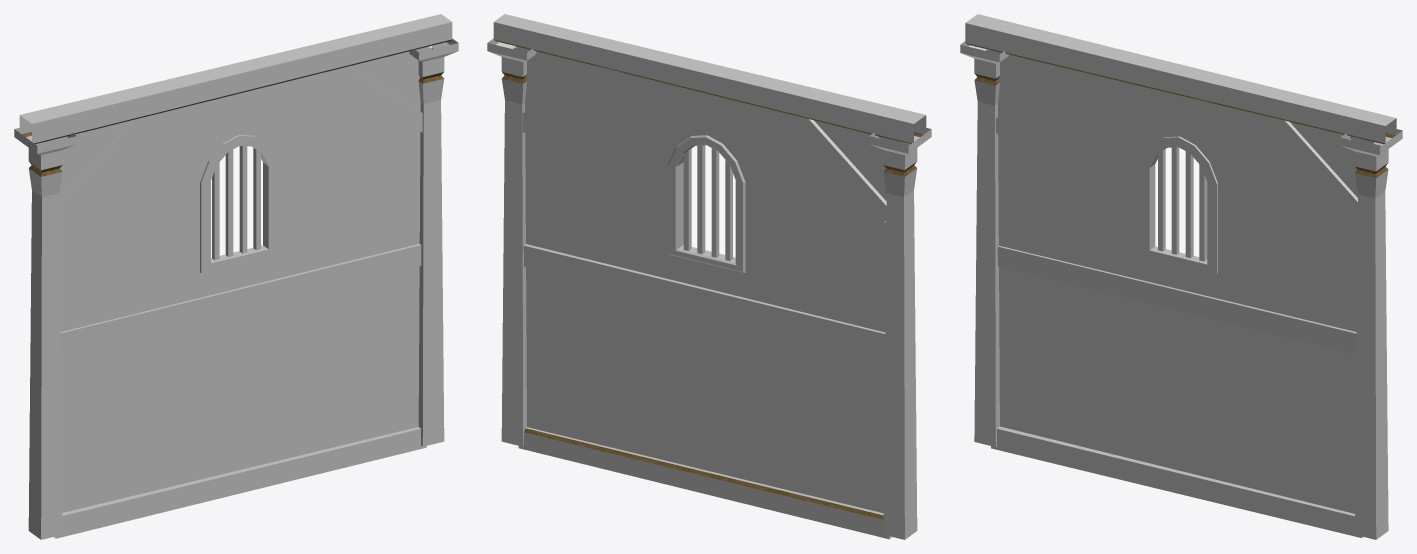
The model's file is WoodenWallWIthWindow.fbx.
3 views of the same model, side by side, from view 1: azimuth 30°, elevation 25°; view 2: azimuth 150°, elevation 25°; view 3: azimuth 330°, elevation 25° (orthographic).
Parts seen in each view (by area): view 1: Cube.015, Cube.014, Cube.013, Cube.012, Cube.016; view 2: Cube.015, Cube.014, Cube.013, Cube.012, Cube.016; view 3: Cube.015, Cube.014, Cube.012, Cube.013, Cube.016.
Boxes of the visible parts, x1,y1,x2,y2 form: Cube.015: [43, 46, 429, 538]; Cube.014: [19, 14, 452, 144]; Cube.013: [14, 128, 76, 539]; Cube.012: [409, 38, 458, 446]; Cube.016: [200, 135, 278, 273]; Cube.015: [516, 46, 901, 539]; Cube.014: [493, 14, 926, 144]; Cube.013: [869, 128, 931, 539]; Cube.012: [487, 38, 536, 446]; Cube.016: [668, 135, 745, 272]; Cube.015: [989, 50, 1373, 537]; Cube.014: [965, 14, 1396, 144]; Cube.012: [1340, 129, 1402, 539]; Cube.013: [960, 41, 1008, 446]; Cube.016: [1140, 136, 1217, 274].
Size of the model in its own units: 58.21 by 55.66 by 5.48.
